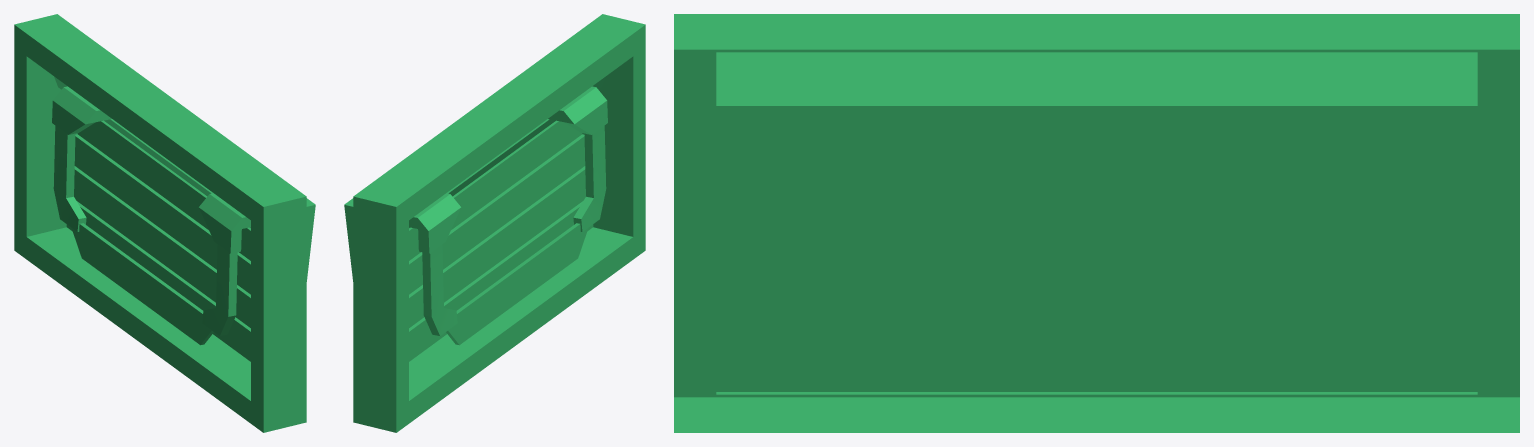
The model's file is Wall_B_1x2m.FBX.
3 renders of one model, left to right at view 1: azimuth 30°, elevation 25°; view 2: azimuth 150°, elevation 25°; view 3: azimuth 270°, elevation 25°, orthographic. The views are drawn at different scales.
Visible parts, largest first — view 1: Wall_B_1x2m; view 2: Wall_B_1x2m; view 3: Wall_B_1x2m.
Part boxes in pixels (x1,y1,x2,y2): Wall_B_1x2m: (14,14,315,432); Wall_B_1x2m: (344,14,645,432); Wall_B_1x2m: (674,14,1519,432).
Bounding box in the file's own units: 30 × 100 × 200.
